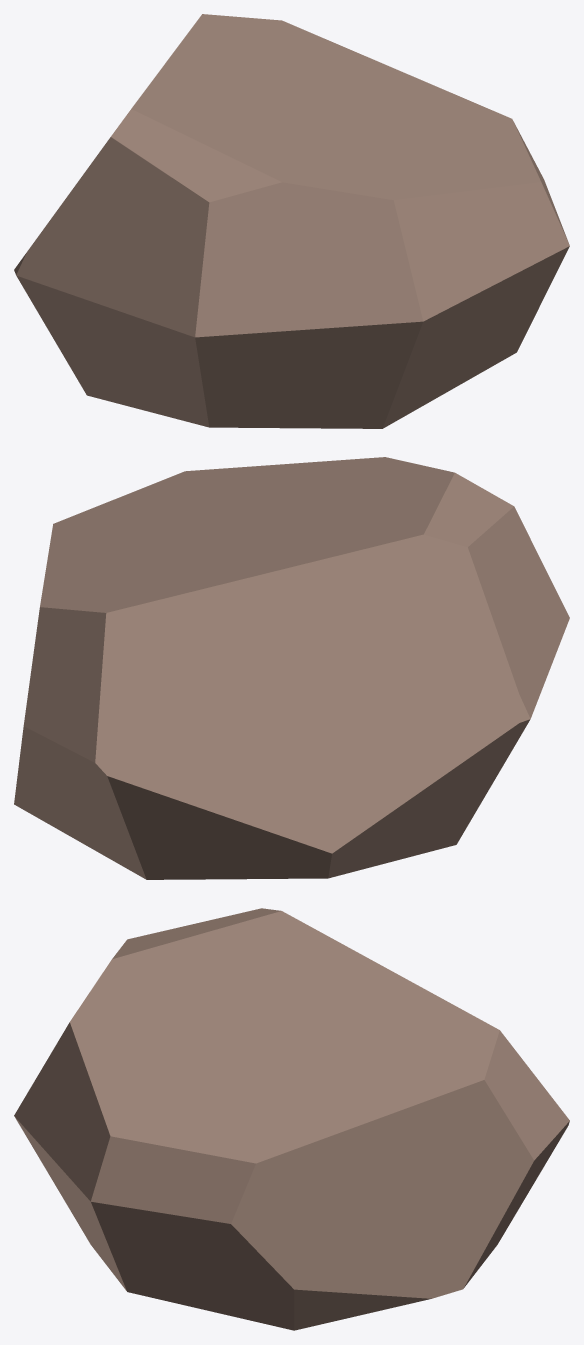
The model's file is rock_1.glb.
3 views of the same model, one above another, from view 1: azimuth 30°, elevation 25°; view 2: azimuth 150°, elevation 25°; view 3: azimuth 270°, elevation 25° (orthographic). The views are drawn at different scales.
Parts seen in each view (by area): view 1: Rock; view 2: Rock; view 3: Rock.
Boxes of the visible parts, bbox=[...] form: Rock: bbox=[14, 14, 569, 428]; Rock: bbox=[14, 457, 569, 879]; Rock: bbox=[14, 908, 569, 1330].
Size of the model in its own units: 0.9519 by 0.6143 by 0.9864.
